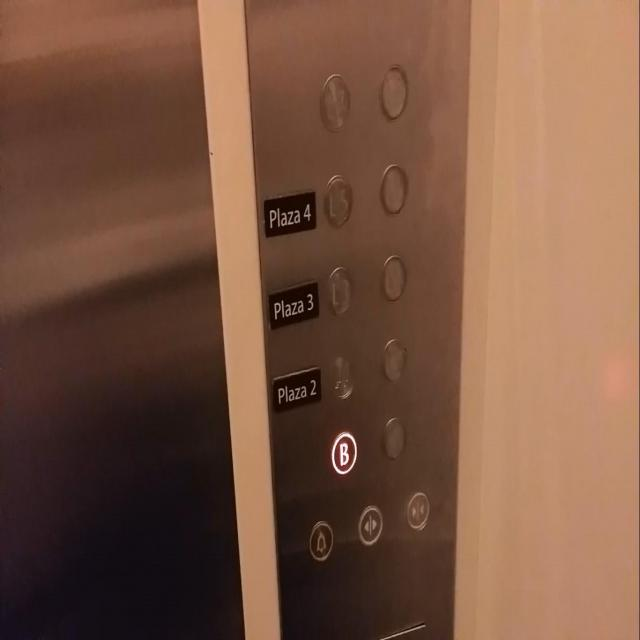B: (329, 428, 358, 476)
L3: (325, 265, 355, 316)
L5: (323, 174, 352, 228)
alarm: (308, 518, 334, 562)
blur: (320, 72, 350, 132), (378, 62, 408, 120), (379, 162, 408, 216), (328, 352, 356, 400), (381, 254, 407, 302), (381, 337, 407, 385), (381, 415, 407, 461)
close: (406, 490, 430, 532)
open: (357, 503, 383, 547)
